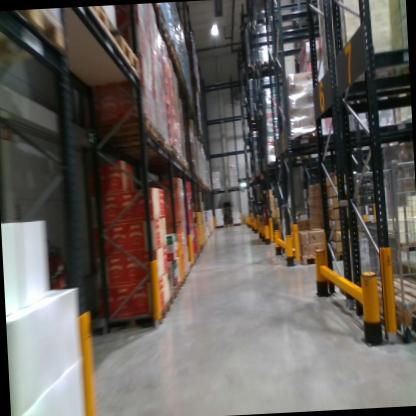pallet: (44, 30, 146, 90), (353, 260, 416, 343), (0, 8, 72, 61), (60, 8, 118, 50), (102, 300, 170, 330), (95, 115, 157, 138), (329, 243, 364, 262), (298, 249, 328, 270), (161, 287, 178, 310), (223, 222, 234, 229)
